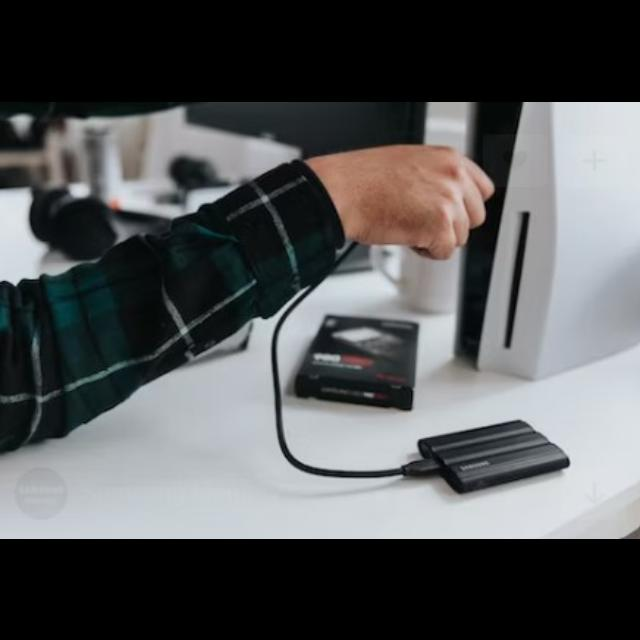HDD: (399, 420, 571, 494)
